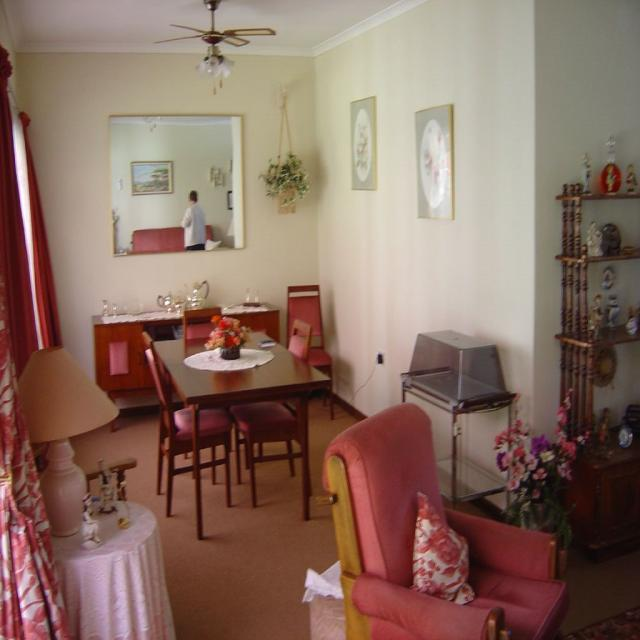fan_off: (154, 0, 274, 54)
